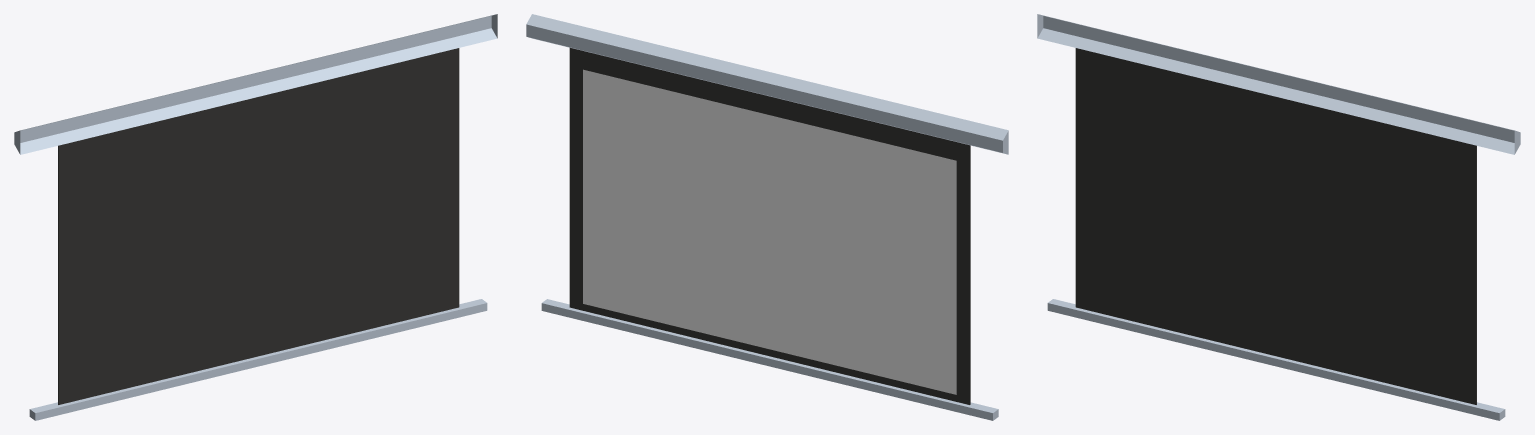
The picture shows the model from 3 angles, left to right: view 1: azimuth 30°, elevation 25°; view 2: azimuth 150°, elevation 25°; view 3: azimuth 330°, elevation 25°; orthographic projection.
Visible parts, largest first — view 1: Screen001; view 2: Screen001; view 3: Screen001.
Part boxes in pixels (x1,y1,x2,y2): Screen001: (14, 14, 497, 420); Screen001: (526, 14, 1008, 420); Screen001: (1037, 14, 1520, 420).
Bounding box in the file's own units: 313 × 183 × 9.48.
